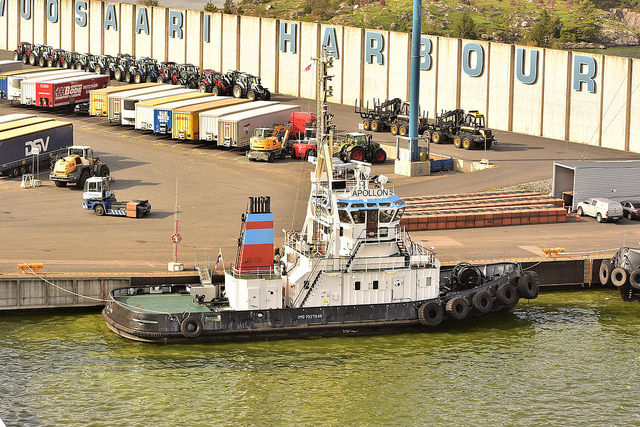tug_boat: (103, 155, 543, 349)
